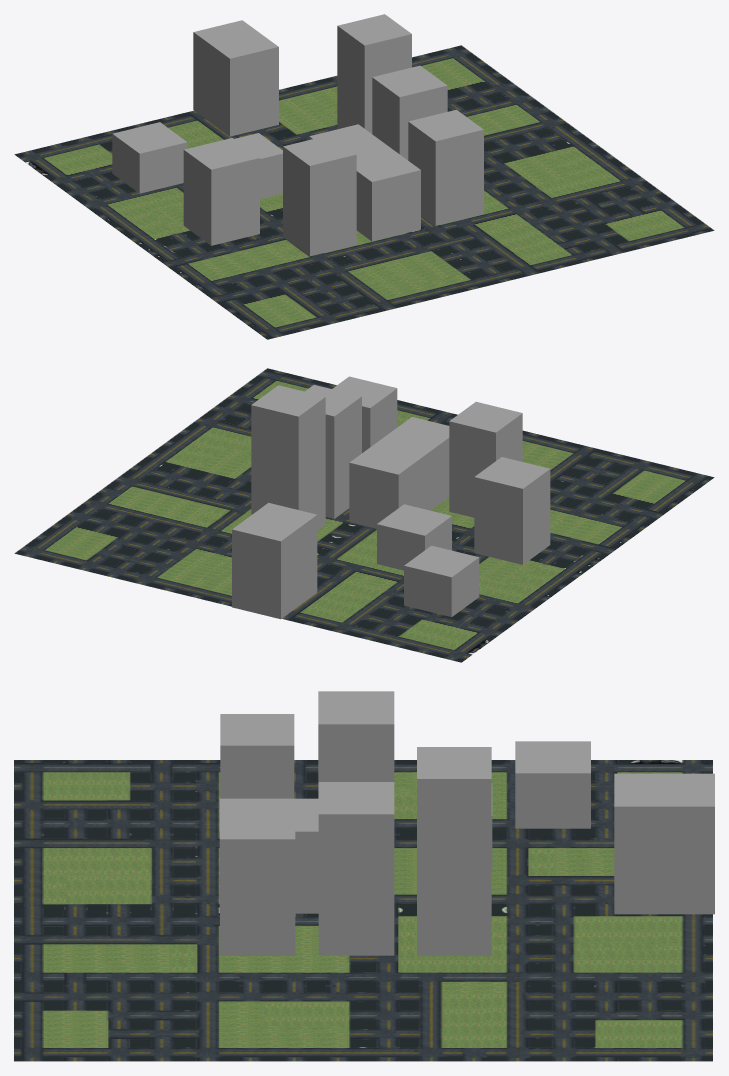
Rendered from world.fbx.
3 renders of one model, top to bottom at view 1: azimuth 30°, elevation 25°; view 2: azimuth 150°, elevation 25°; view 3: azimuth 270°, elevation 25°, orthographic. The views are drawn at different scales.
Visible parts, largest first — view 1: pPlane1, pCube1, pCube8, pCube5, pCube9, pCube4, pCube2, pCube3, pCube7, pCube6; view 2: pPlane1, pCube2, pCube1, pCube4, pCube5, pCube8, pCube7, pCube3, pCube6, pCube9; view 3: pPlane1, pCube2, pCube1, pCube3, pCube9, pCube5, pCube7, pCube8, pCube4.
Part boxes in pixels (<box>): pPlane1: <box>14,45,714,339</box>; pCube1: <box>193,20,278,136</box>; pCube8: <box>283,135,356,256</box>; pCube5: <box>183,138,259,245</box>; pCube9: <box>408,109,483,225</box>; pCube4: <box>309,124,420,241</box>; pCube2: <box>337,14,411,133</box>; pCube3: <box>372,65,447,160</box>; pCube7: <box>112,122,187,193</box>; pCube6: <box>234,133,282,198</box>; pPlane1: <box>14,368,714,662</box>; pCube2: <box>251,385,325,530</box>; pCube1: <box>232,502,317,619</box>; pCube4: <box>349,417,449,528</box>; pCube5: <box>474,457,550,564</box>; pCube8: <box>449,401,522,517</box>; pCube7: <box>404,545,479,617</box>; pCube3: <box>305,385,361,518</box>; pCube6: <box>377,504,451,570</box>; pCube9: <box>332,376,397,452</box>; pPlane1: <box>14,760,712,1061</box>; pCube2: <box>417,747,491,955</box>; pCube1: <box>614,773,714,914</box>; pCube3: <box>318,782,394,955</box>; pCube9: <box>220,806,295,955</box>; pCube5: <box>318,691,394,798</box>; pCube7: <box>515,741,590,828</box>; pCube8: <box>220,714,294,798</box>; pCube4: <box>219,798,318,913</box>.
Bounding box in the file's own units: 67.31 × 18.4 × 66.1.
2 materials, 1 textured.
